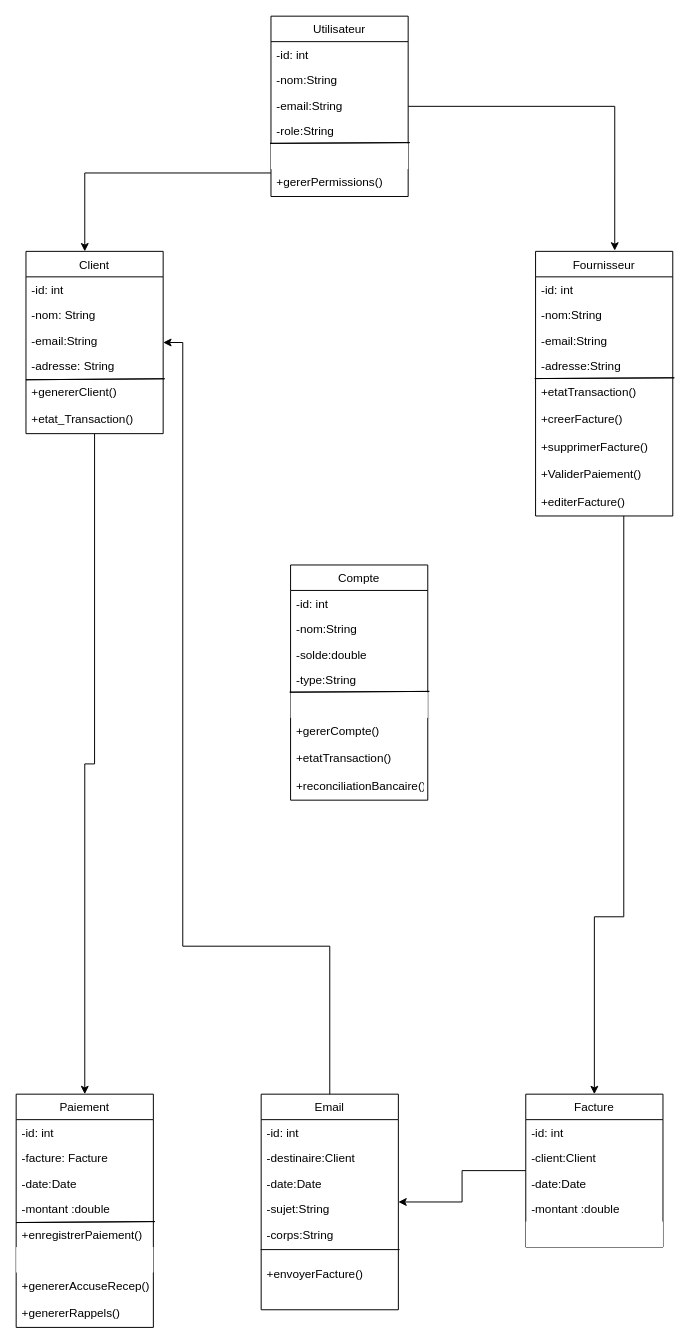
This 691x1344 diagram has some shape labels left out. The centre of each missing label's shape, as x and y in pixels:
+creerCompte(): (x=358, y=704)
+creerUtilisateur(): (x=339, y=156)
+genererRecus(): (x=84, y=1259)
-etatFacture: String: (x=593, y=1234)
